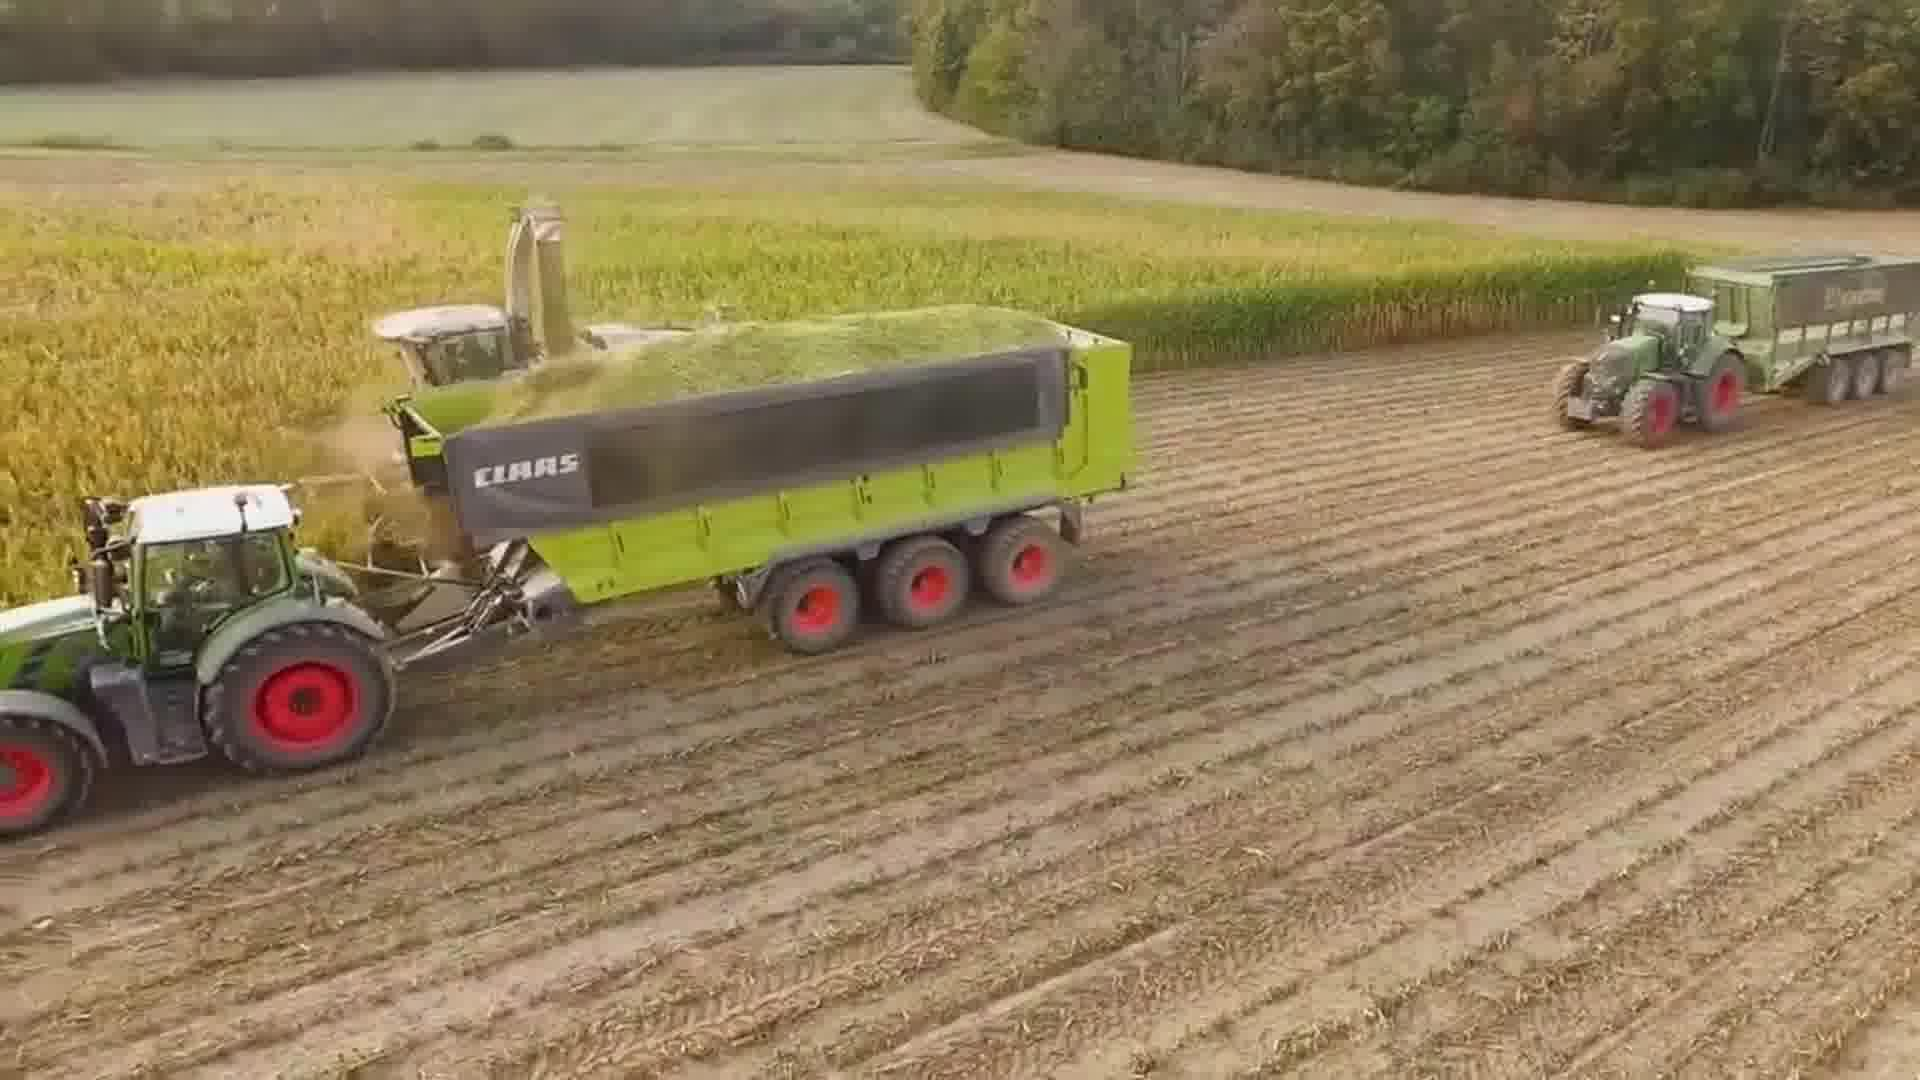combine harvester: (360, 184, 646, 380)
tractor: (0, 477, 407, 849)
trailer: (380, 296, 1140, 663), (1683, 246, 1920, 416)
